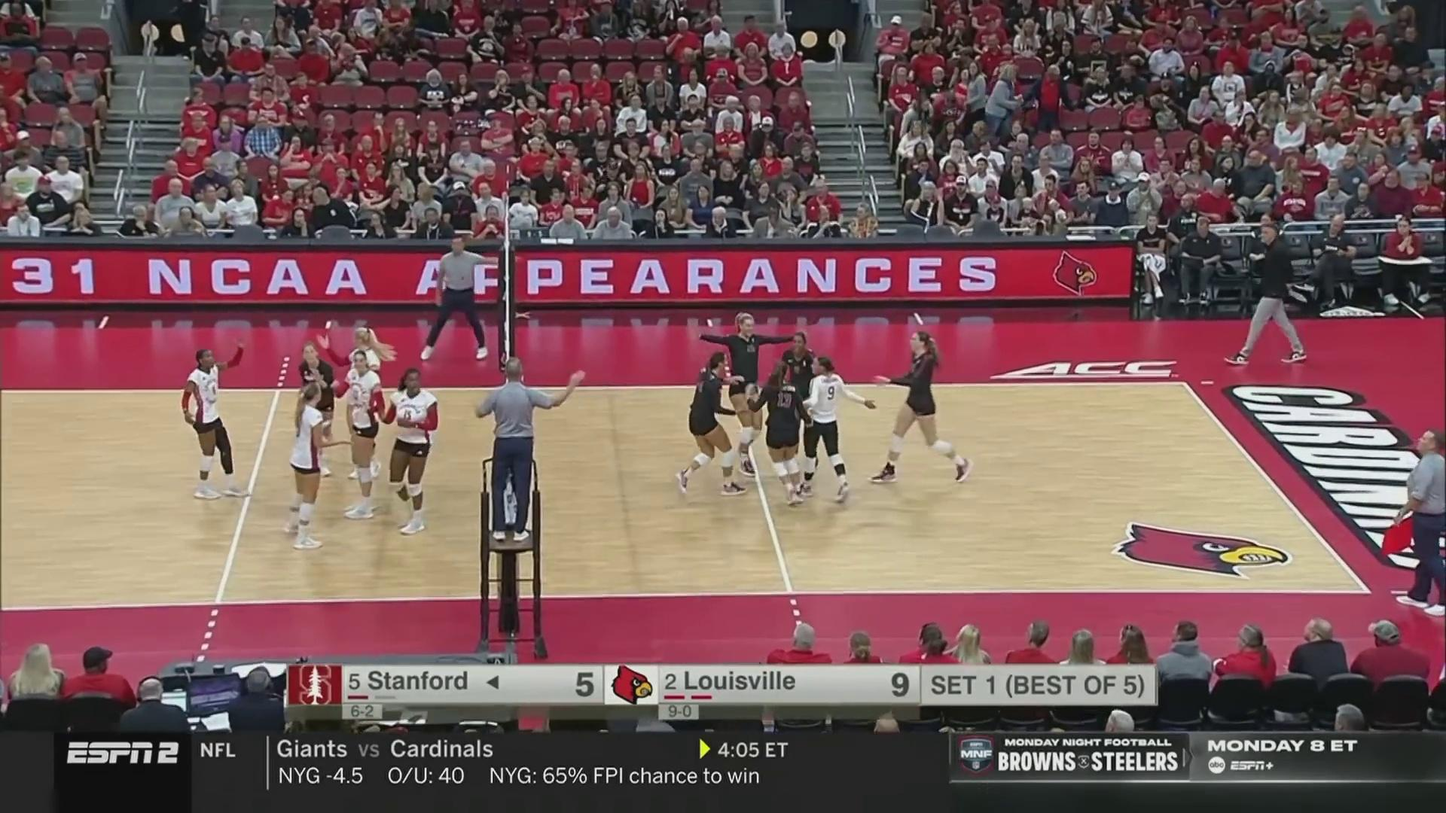player: (875, 332, 974, 487), (700, 307, 782, 476), (277, 383, 341, 555), (675, 351, 748, 499), (791, 357, 862, 506), (181, 345, 249, 500), (382, 367, 437, 535), (333, 349, 385, 519), (338, 327, 392, 480), (772, 331, 825, 473), (758, 362, 807, 505), (295, 343, 336, 497)
refree: (476, 358, 555, 535), (425, 236, 506, 364), (1401, 425, 1446, 617)
